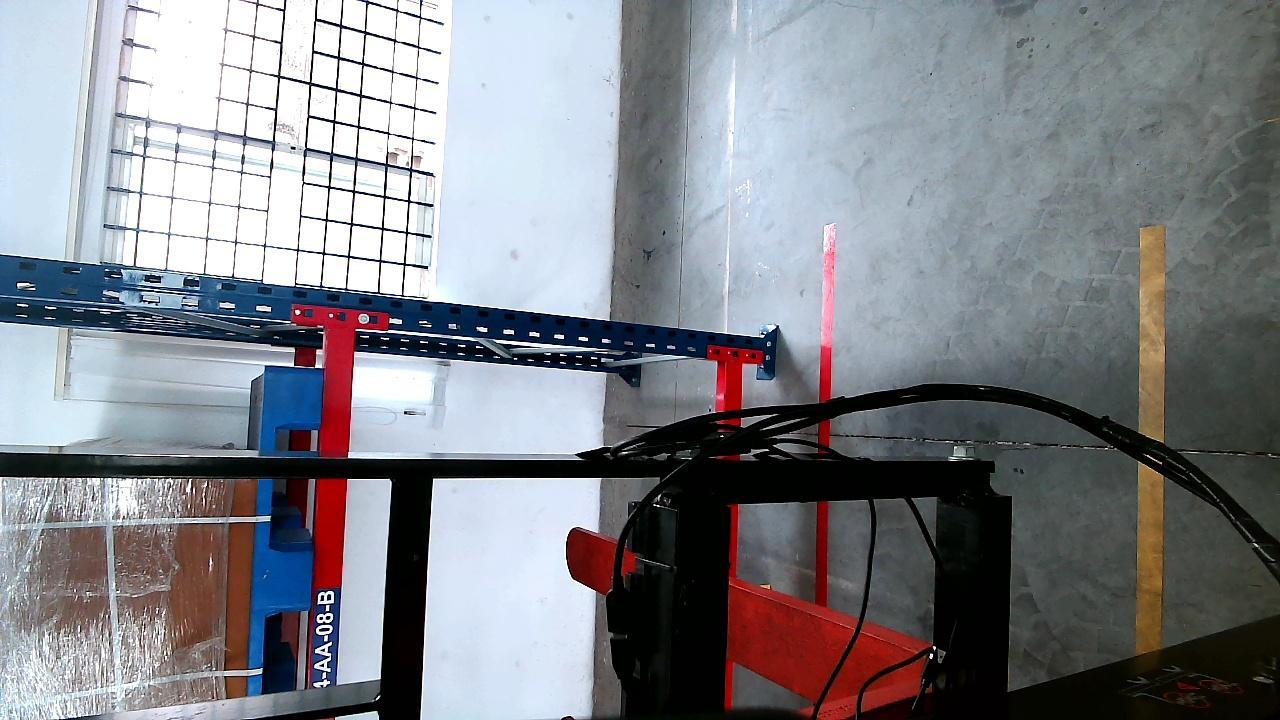red_line: (814, 225, 836, 604)
yellow_line: (1137, 211, 1164, 668)
